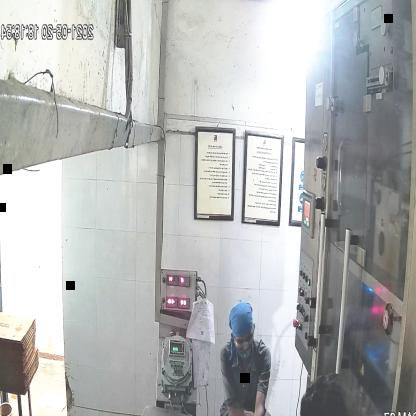goggles: (232, 324, 256, 352)
